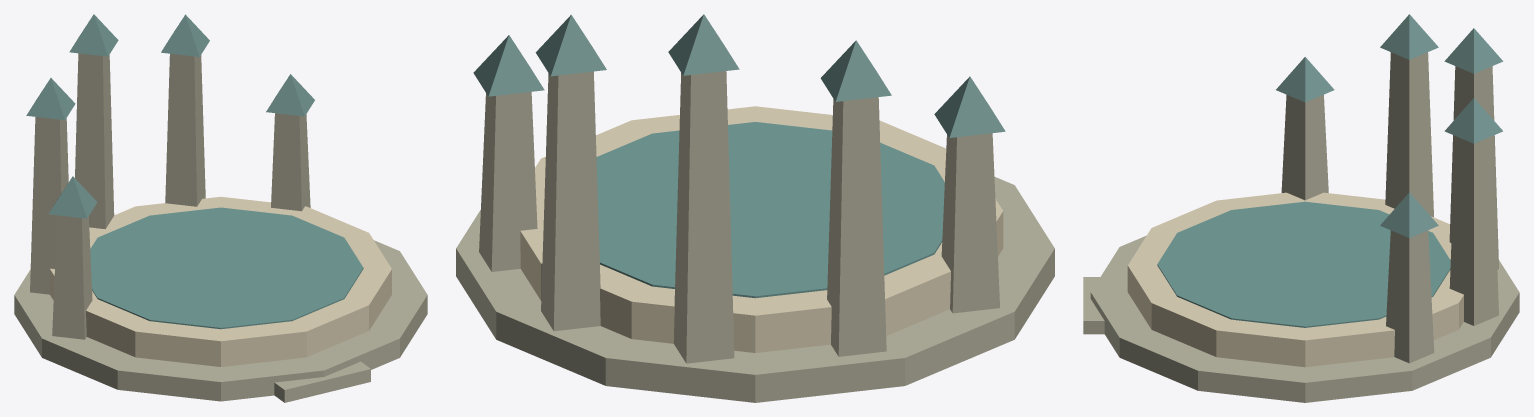
Rendered from moonWell.glb.
The picture shows the model from 3 angles, left to right: view 1: azimuth 30°, elevation 25°; view 2: azimuth 150°, elevation 25°; view 3: azimuth 270°, elevation 25°; orthographic projection. The views are drawn at different scales.
Visible parts, largest first — view 1: Building; view 2: Building; view 3: Building.
Boxes of the visible parts, x1=… form: Building: x1=14, y1=14, x2=427, y2=402; Building: x1=456, y1=14, x2=1054, y2=402; Building: x1=1083, y1=14, x2=1519, y2=402.
Size of the model in its own units: 58 by 39 by 59.
